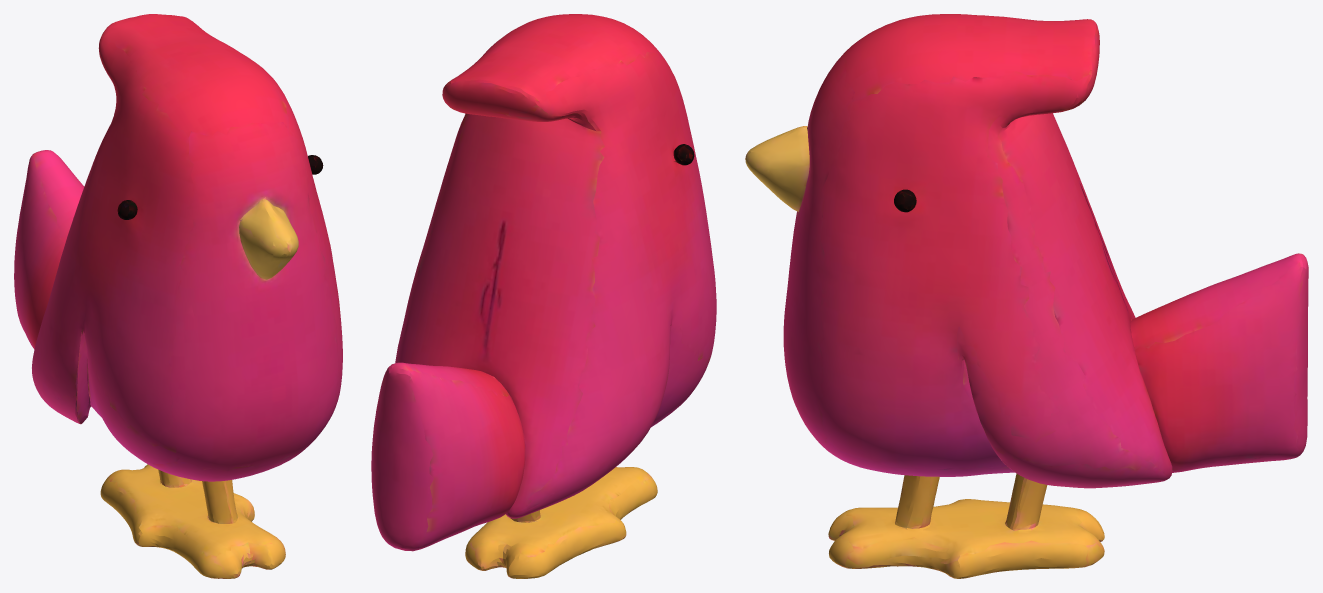
Rendered from bird.glb.
3 renders of one model, left to right at view 1: azimuth 30°, elevation 25°; view 2: azimuth 150°, elevation 25°; view 3: azimuth 270°, elevation 25°, orthographic. The views are drawn at different scales.
Visible parts, largest first — view 1: Mesh; view 2: Mesh; view 3: Mesh.
Part boxes in pixels (x1,y1,x2,y2): Mesh: (14, 14, 342, 578); Mesh: (371, 14, 716, 578); Mesh: (745, 14, 1308, 578).
Bounding box in the file's own units: 0.5191 × 1 × 0.9751.
Materials: 1 (1 with a texture image).
